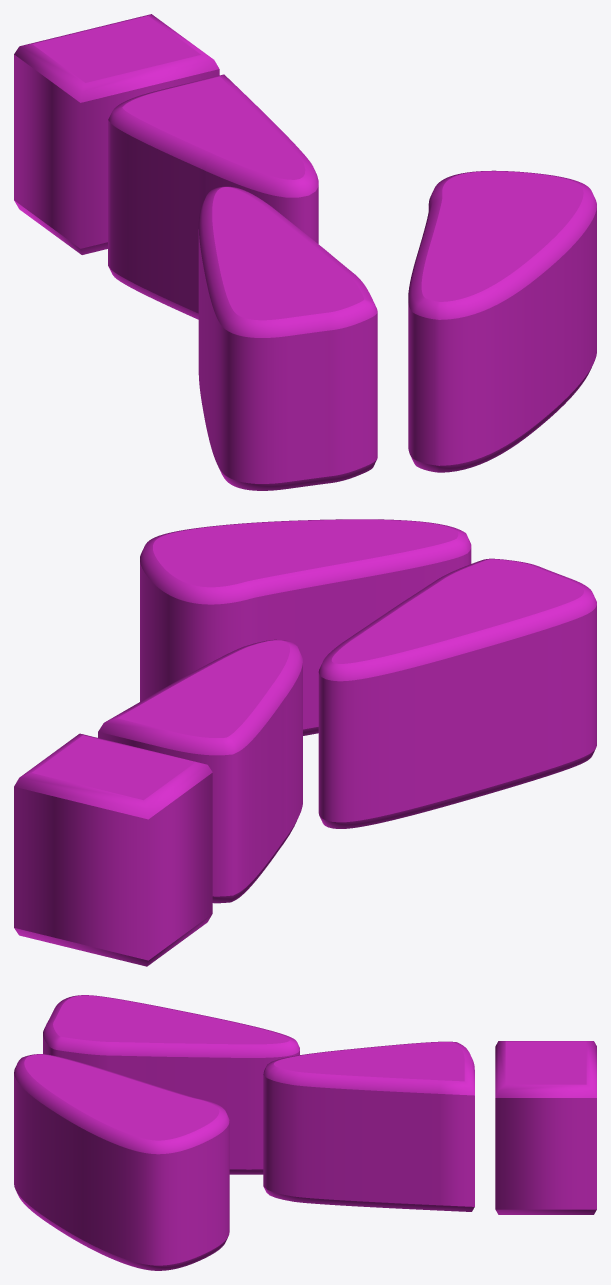
Rendered from QuestionMark.fbx.
The picture shows the model from 3 angles, top to bottom: view 1: azimuth 30°, elevation 25°; view 2: azimuth 150°, elevation 25°; view 3: azimuth 270°, elevation 25°; orthographic projection. The views are drawn at different scales.
Parts seen in each view (by area): view 1: QuestionMark; view 2: QuestionMark; view 3: QuestionMark.
Part boxes in pixels (x1,y1,x2,y2): QuestionMark: [14, 14, 596, 490]; QuestionMark: [14, 519, 596, 966]; QuestionMark: [14, 995, 596, 1270].
Bounding box in the file's own units: 0.3554 × 0.14 × 0.569.
